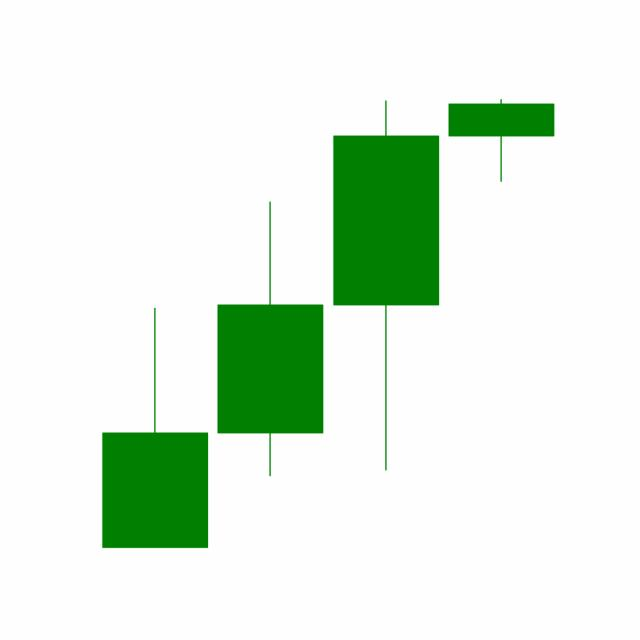Hanging Man: (443, 98, 559, 182)
